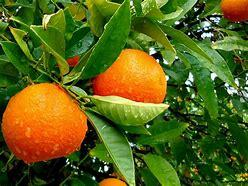orange: (0, 80, 98, 155), (96, 41, 178, 108), (203, 2, 247, 24)
